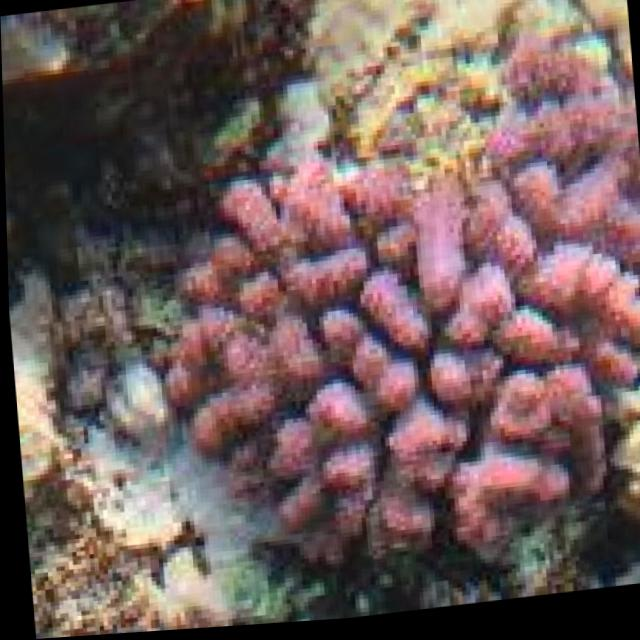Healthy Coral: (136, 118, 640, 595)
